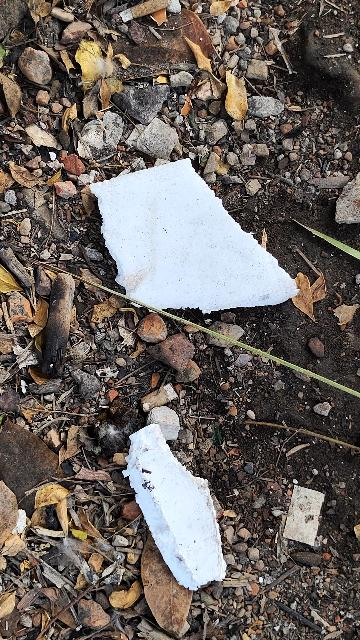cocksheet: (89, 143, 300, 336), (101, 412, 252, 600)
